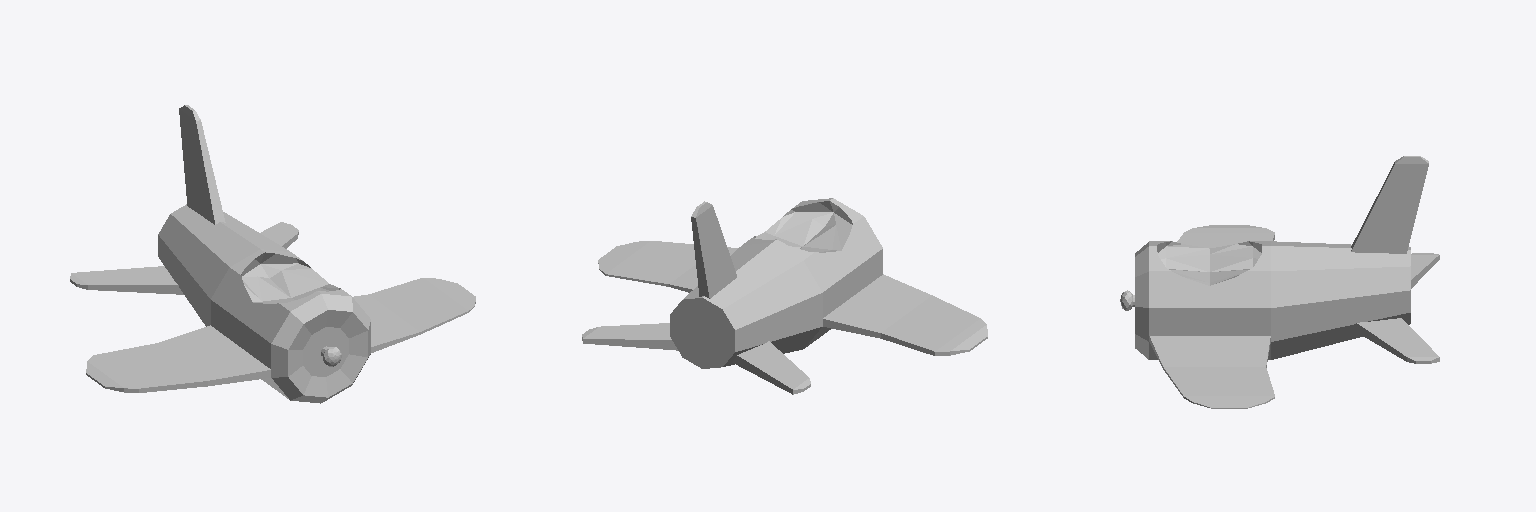
Rendered from samolot.obj.
3 renders of one model, left to right at view 1: azimuth 30°, elevation 25°; view 2: azimuth 150°, elevation 25°; view 3: azimuth 270°, elevation 25°, orthographic.
Visible parts, largest first — view 1: Cylinder; view 2: Cylinder; view 3: Cylinder.
Boxes of the visible parts, x1,y1,x2,y2 form: Cylinder: [70, 105, 475, 403]; Cylinder: [582, 198, 987, 394]; Cylinder: [1120, 156, 1439, 408].
Size of the model in its own units: 7.07 by 3.63 by 5.26.